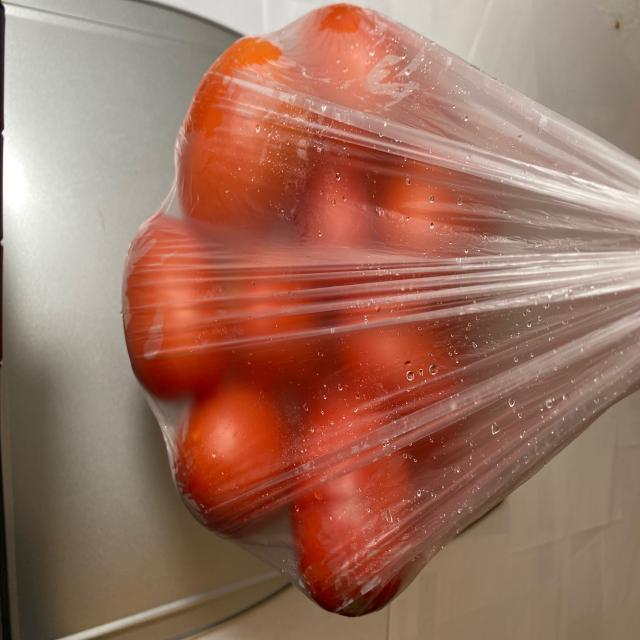tomato: (129, 12, 507, 614)
